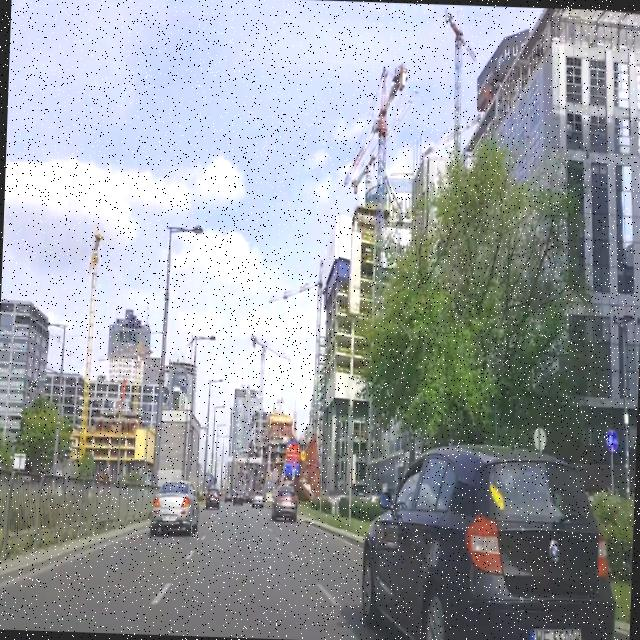Zakaz zatrzymywania sie: (290, 456, 297, 471)
